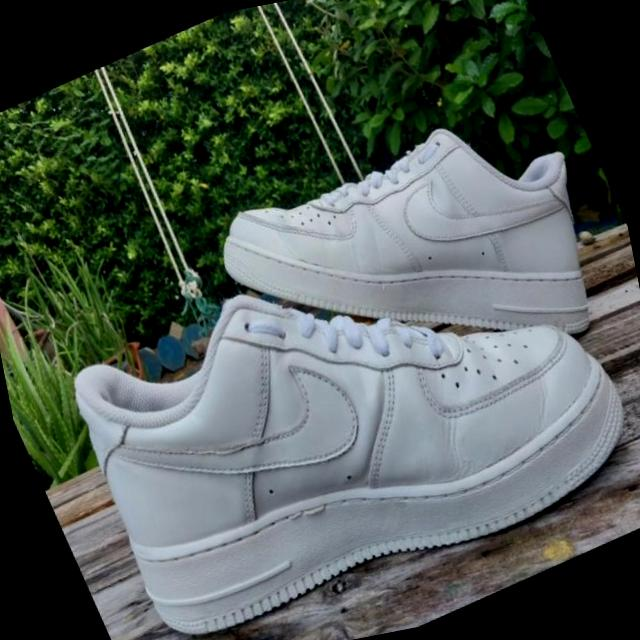nike_original_airforce: (28, 148, 640, 640), (185, 67, 640, 462)
